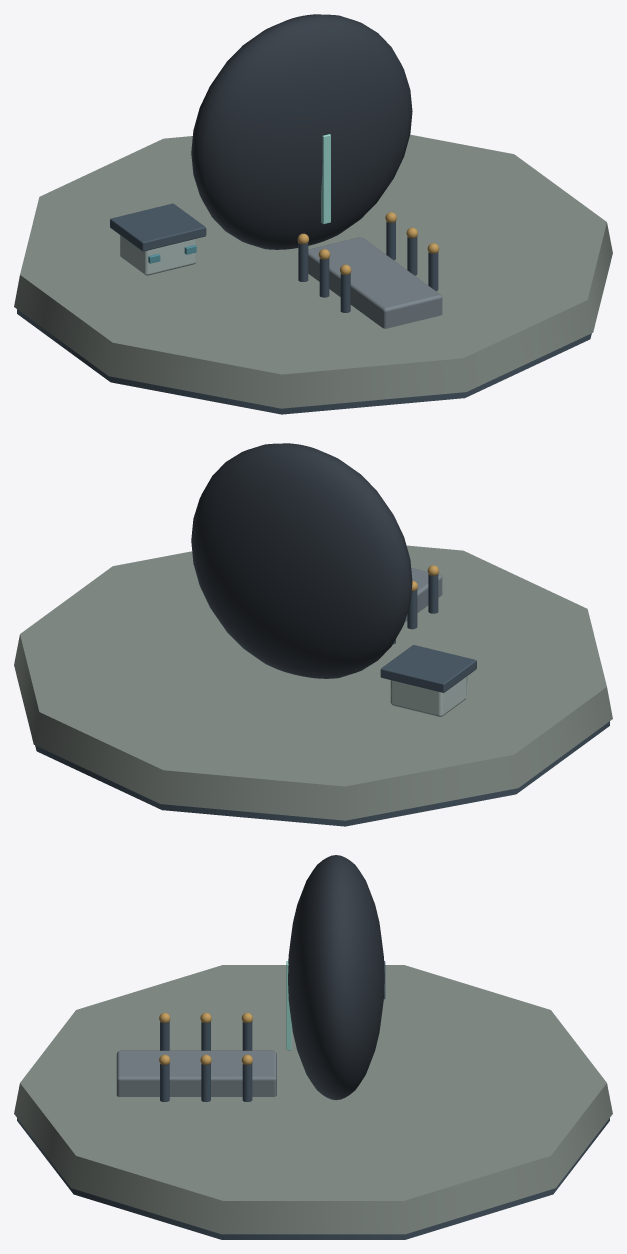
The model's file is lumenvault.glb.
3 renders of one model, top to bottom at view 1: azimuth 30°, elevation 25°; view 2: azimuth 150°, elevation 25°; view 3: azimuth 270°, elevation 25°, orthographic. The views are drawn at different scales.
Visible parts, largest first — view 1: Terrain cutaway, Archive monolith, Structural deck, Substrate, Roof slab, Habitat pressure shell, Entrance slit; view 2: Terrain cutaway, Archive monolith, Substrate, Roof slab, Habitat pressure shell, Structural deck; view 3: Terrain cutaway, Archive monolith, Structural deck, Substrate.
Boxes of the visible parts, <box> form: Terrain cutaway: <box>14,134,612,408</box>; Archive monolith: <box>191,14,412,249</box>; Structural deck: <box>308,237,442,328</box>; Substrate: <box>17,309,591,414</box>; Roof slab: <box>110,203,206,251</box>; Habitat pressure shell: <box>120,235,196,275</box>; Entrance slit: <box>321,134,330,223</box>; Terrain cutaway: <box>14,545,612,820</box>; Archive monolith: <box>191,443,412,678</box>; Substrate: <box>35,721,609,826</box>; Roof slab: <box>380,645,476,692</box>; Habitat pressure shell: <box>390,676,466,716</box>; Structural deck: <box>404,568,442,622</box>; Terrain cutaway: <box>14,965,612,1234</box>; Archive monolith: <box>288,855,384,1100</box>; Structural deck: <box>116,1050,276,1096</box>; Substrate: <box>17,1118,609,1239</box>.
Bounding box in the file's own units: 5.52 × 2.72 × 5.8.
